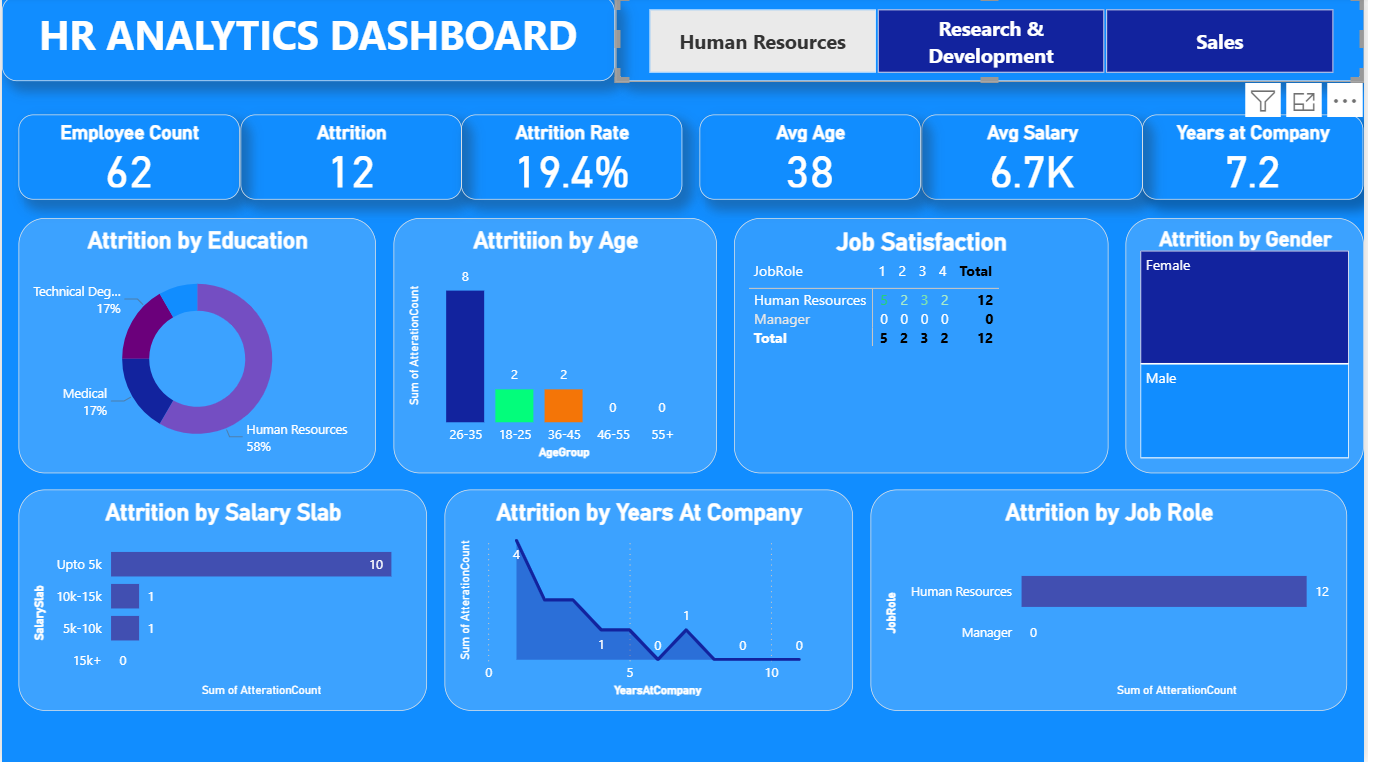

Layout of this report page (visuals, bound fields, positions):
{"tool":"powerbi","page":{"name":"Page 1","canvas":[1280,720],"ordinal":0},"visuals":[{"type":"card","title":"Employee Count","fields":{"Values":["CountNonNull(HR_Analytics.EmpID)"]},"box":[16,112,208,80],"z":0},{"type":"donutChart","title":"Attrition by Education","fields":{"Category":["HR_Analytics.EducationField"],"Y":["Sum(HR_Analytics.AtterationCount)"]},"box":[16,208,336,240],"z":1000},{"type":"card","title":"Attrition","fields":{"Values":["Sum(HR_Analytics.AtterationCount)"]},"box":[224,112,208,80],"z":2000},{"type":"columnChart","title":"Attritiion by Age","fields":{"Category":["HR_Analytics.AgeGroup"],"Y":["Sum(HR_Analytics.AtterationCount)"]},"box":[368,208,304,240],"z":3000},{"type":"card","title":"Attrition Rate","fields":{"Values":["HR_Analytics.AttritionRate"]},"box":[432,112,208,80],"z":4000},{"type":"pivotTable","title":"Job Satisfaction ","fields":{"Rows":["HR_Analytics.JobRole"],"Columns":["HR_Analytics.JobSatisfaction"],"Values":["Sum(HR_Analytics.AtterationCount)"]},"box":[688,208,352,240],"z":5000},{"type":"barChart","title":"Attrition by Salary Slab","fields":{"Category":["HR_Analytics.SalarySlab"],"Y":["Sum(HR_Analytics.AtterationCount)"]},"box":[16,464,384,208],"z":6000},{"type":"card","title":"Avg Salary","fields":{"Values":["Avg(HR_Analytics.MonthlyIncome)"]},"box":[864,112,208,80],"z":7000},{"type":"barChart","title":"Attrition by Job Role","fields":{"Y":["Sum(HR_Analytics.AtterationCount)"],"Category":["HR_Analytics.JobRole"]},"box":[816,464,448,208],"z":8000},{"type":"card","title":"Years at Company","fields":{"Values":["Avg(HR_Analytics.YearsAtCompany)"]},"box":[1072,112,208,80],"z":9000},{"type":"areaChart","title":"Attrition by Years At Company","fields":{"Category":["HR_Analytics.YearsAtCompany"],"Y":["Sum(HR_Analytics.AtterationCount)"]},"box":[416,464,384,208],"z":10000},{"type":"treemap","title":"Attrition by Gender","fields":{"Group":["HR_Analytics.Gender"],"Values":["Sum(HR_Analytics.AtterationCount)"]},"box":[1056,208,224,240],"z":11000},{"type":"slicer","fields":{"Values":["HR_Analytics.Department"]},"box":[576,0,704,80],"z":12000},{"type":"textbox","box":[0,0,576,80],"z":13000},{"type":"card","title":"Avg Age","fields":{"Values":["Avg(HR_Analytics.Age)"]},"box":[656,112,208,80],"z":14000}]}

Visuals, with their boxes in screenshot pixels (x1, y1, x2, y2), scaled from the page's 1280x720 canvas onto the 1377x767 screenshot:
"Employee Count" card: [17, 119, 241, 205]
"Attrition by Education" donutChart: [17, 222, 379, 477]
"Attrition" card: [241, 119, 465, 205]
"Attritiion by Age" columnChart: [396, 222, 723, 477]
"Attrition Rate" card: [465, 119, 688, 205]
"Job Satisfaction " pivotTable: [740, 222, 1119, 477]
"Attrition by Salary Slab" barChart: [17, 494, 430, 716]
"Avg Salary" card: [929, 119, 1153, 205]
"Attrition by Job Role" barChart: [878, 494, 1360, 716]
"Years at Company" card: [1153, 119, 1376, 205]
"Attrition by Years At Company" areaChart: [448, 494, 861, 716]
"Attrition by Gender" treemap: [1136, 222, 1376, 477]
slicer - HR_Analytics.Department: [620, 0, 1376, 85]
textbox: [0, 0, 620, 85]
"Avg Age" card: [706, 119, 929, 205]
